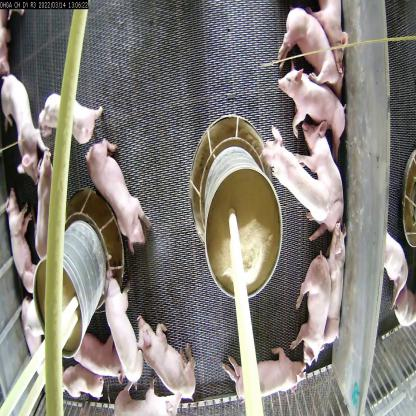Pig: (264, 59, 352, 158), (118, 308, 207, 403), (88, 117, 147, 255), (262, 132, 332, 229), (224, 313, 292, 402), (292, 250, 332, 380), (45, 80, 116, 152), (103, 283, 142, 400), (321, 219, 351, 356), (57, 329, 131, 384), (274, 13, 336, 77), (29, 149, 62, 261), (2, 182, 36, 280), (4, 76, 34, 184), (17, 290, 45, 372)
